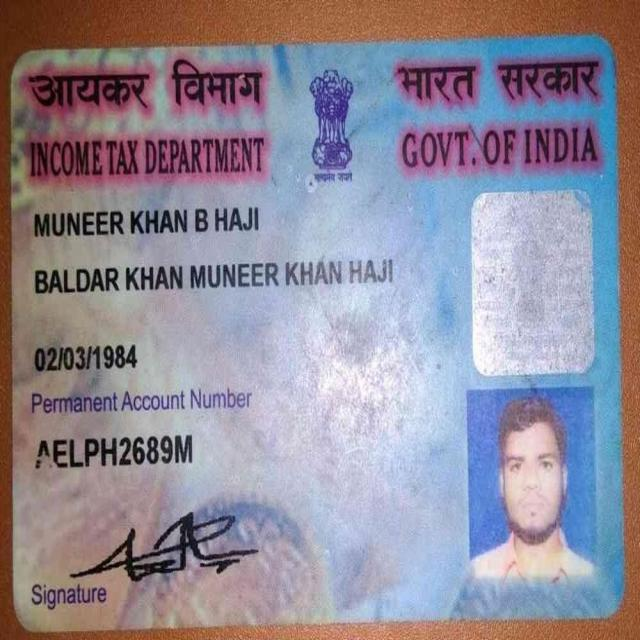pan_card: (10, 52, 618, 620)
